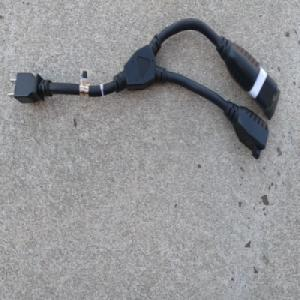Wire: (7, 17, 282, 161)
